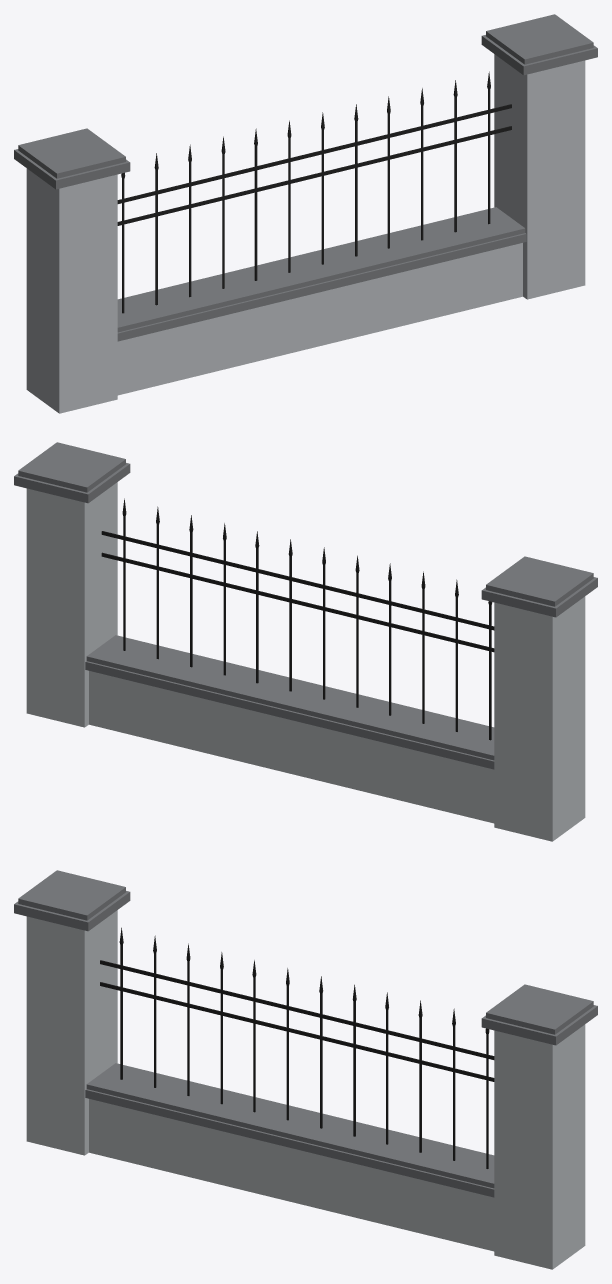
File: SM_fence_05.fbx
3 views of the same model, one above another, from view 1: azimuth 30°, elevation 25°; view 2: azimuth 150°, elevation 25°; view 3: azimuth 330°, elevation 25° (orthographic).
Parts seen in each view (by area): view 1: Box210; view 2: Box210; view 3: Box210.
Boxes of the visible parts, x1=… form: Box210: x1=14, y1=14, x2=597, y2=413; Box210: x1=14, y1=442, x2=597, y2=841; Box210: x1=14, y1=870, x2=597, y2=1269.
Bounding box in the file's own units: 203 × 27.21 × 87.39.
